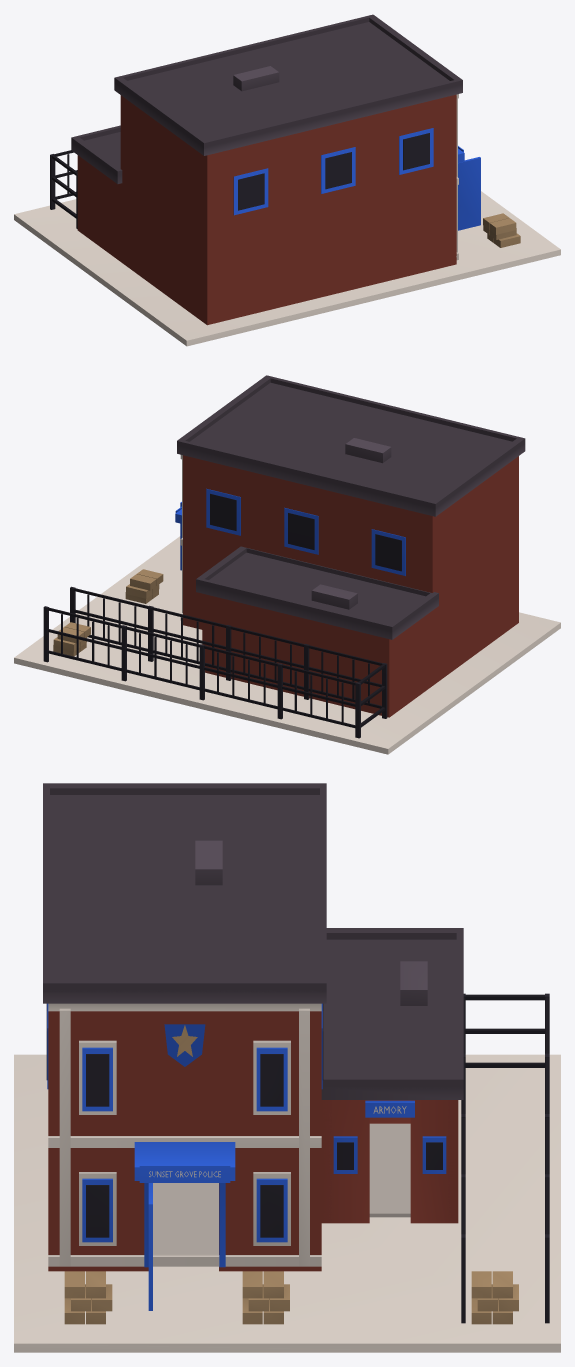
3 views of the same model, one above another, from view 1: azimuth 30°, elevation 25°; view 2: azimuth 150°, elevation 25°; view 3: azimuth 270°, elevation 25° (orthographic). The views are drawn at different scales.
Visible parts, largest first — view 1: body_pal_brick, roof_pal_asphalt, body_pal_picketWhite, body_pal_uiDark, body_pal_policeBlue, doorMain_pal_policeBlue, body_pal_khaki; view 2: body_pal_brick, roof_pal_asphalt, body_pal_picketWhite, body_pal_uiDark, body_pal_policeBlue, body_pal_khaki; view 3: body_pal_picketWhite, roof_pal_asphalt, body_pal_brick, body_pal_policeBlue, body_pal_uiDark, interior_pal_picketWhite, body_pal_khaki.
Boxes of the visible parts, left/top/right/bottom form: body_pal_brick: left=77, top=94, right=456, bottom=325; roof_pal_asphalt: left=71, top=14, right=462, bottom=183; body_pal_picketWhite: left=14, top=94, right=560, bottom=346; body_pal_uiDark: left=50, top=133, right=429, bottom=228; body_pal_policeBlue: left=233, top=128, right=464, bottom=215; doorMain_pal_policeBlue: left=458, top=157, right=480, bottom=230; body_pal_khaki: left=483, top=213, right=520, bottom=247; body_pal_brick: left=183, top=455, right=518, bottom=717; roof_pal_asphalt: left=177, top=375, right=525, bottom=639; body_pal_picketWhite: left=14, top=455, right=560, bottom=754; body_pal_uiDark: left=43, top=493, right=401, bottom=738; body_pal_policeBlue: left=175, top=488, right=405, bottom=575; body_pal_khaki: left=53, top=569, right=163, bottom=656; body_pal_picketWhite: left=14, top=1003, right=560, bottom=1352; roof_pal_asphalt: left=43, top=783, right=463, bottom=1099; body_pal_brick: left=48, top=1011, right=458, bottom=1271; body_pal_policeBlue: left=47, top=1003, right=446, bottom=1267; body_pal_uiDark: left=46, top=993, right=549, bottom=1323; interior_pal_picketWhite: left=153, top=1123, right=410, bottom=1254; body_pal_khaki: left=64, top=1025, right=518, bottom=1324.
Size of the model in its own units: 10 by 5 by 8.
